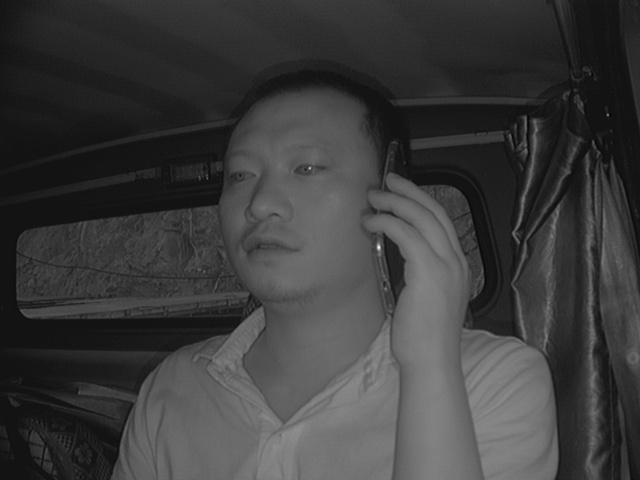hand: (357, 171, 481, 376)
